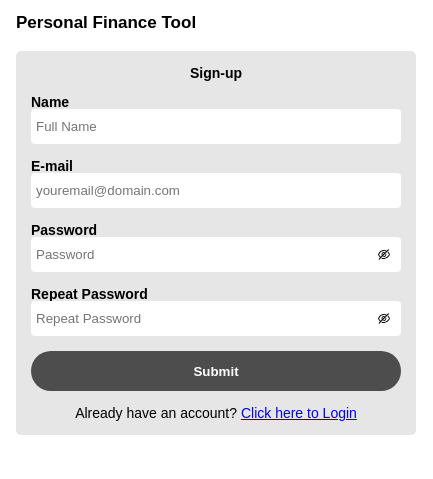
Test: Register › Register Form › should show an alert for incorrect email or password (failed register)
Type "Name" into the field with placeholder "Full Name" at [216, 126], box [31,109,401,144]
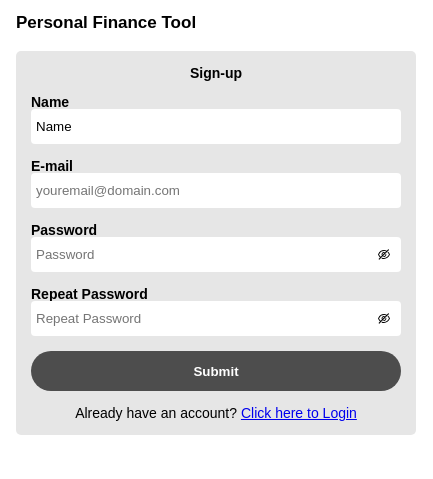
Type "email@example.com" into the field with placeholder "youremail@domain.com" at [216, 190], box [31,173,401,208]
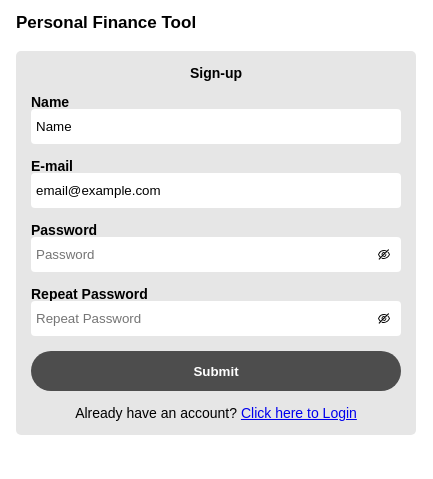
Type "password123" into the password field with placeholder "Password" at [216, 254], box [31,237,401,272]
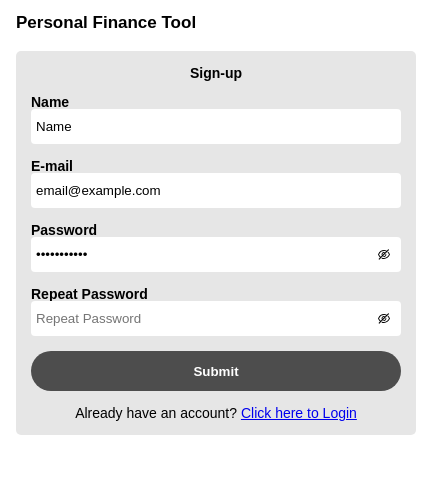
Type "password123" into the password field with placeholder "Repeat Password" at [216, 318], box [31,301,401,336]
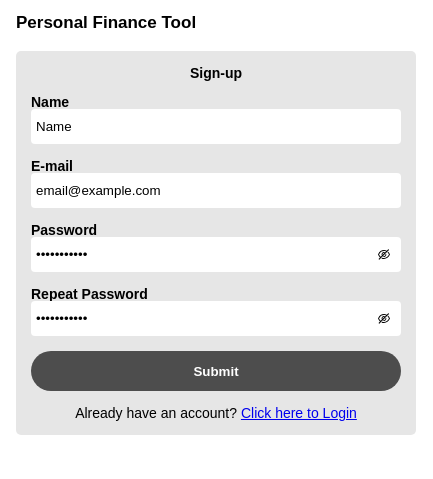
Click the button "Submit" at [216, 371], box [31,351,401,391]
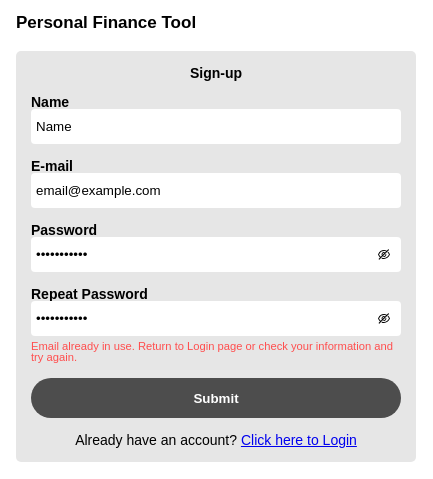
Now the message shows "Email already in use", box [31,340,393,363]
